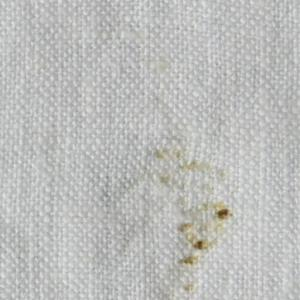Oil Stain: (148, 147, 238, 300)
